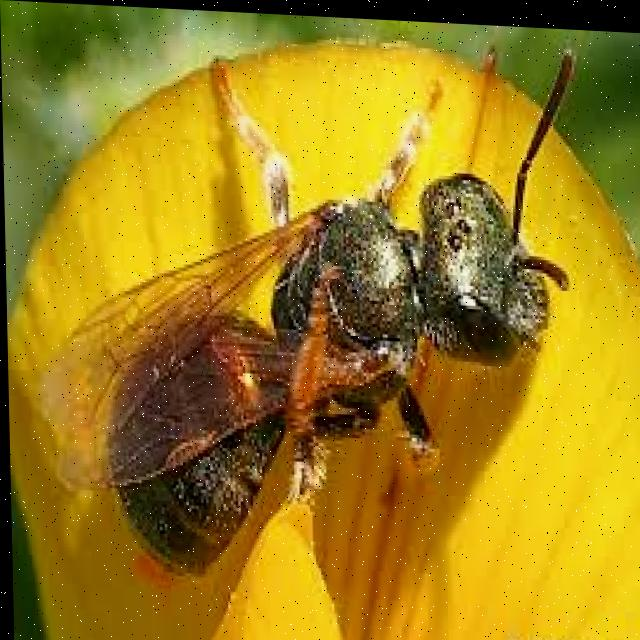Seladonia: (65, 32, 609, 588)
